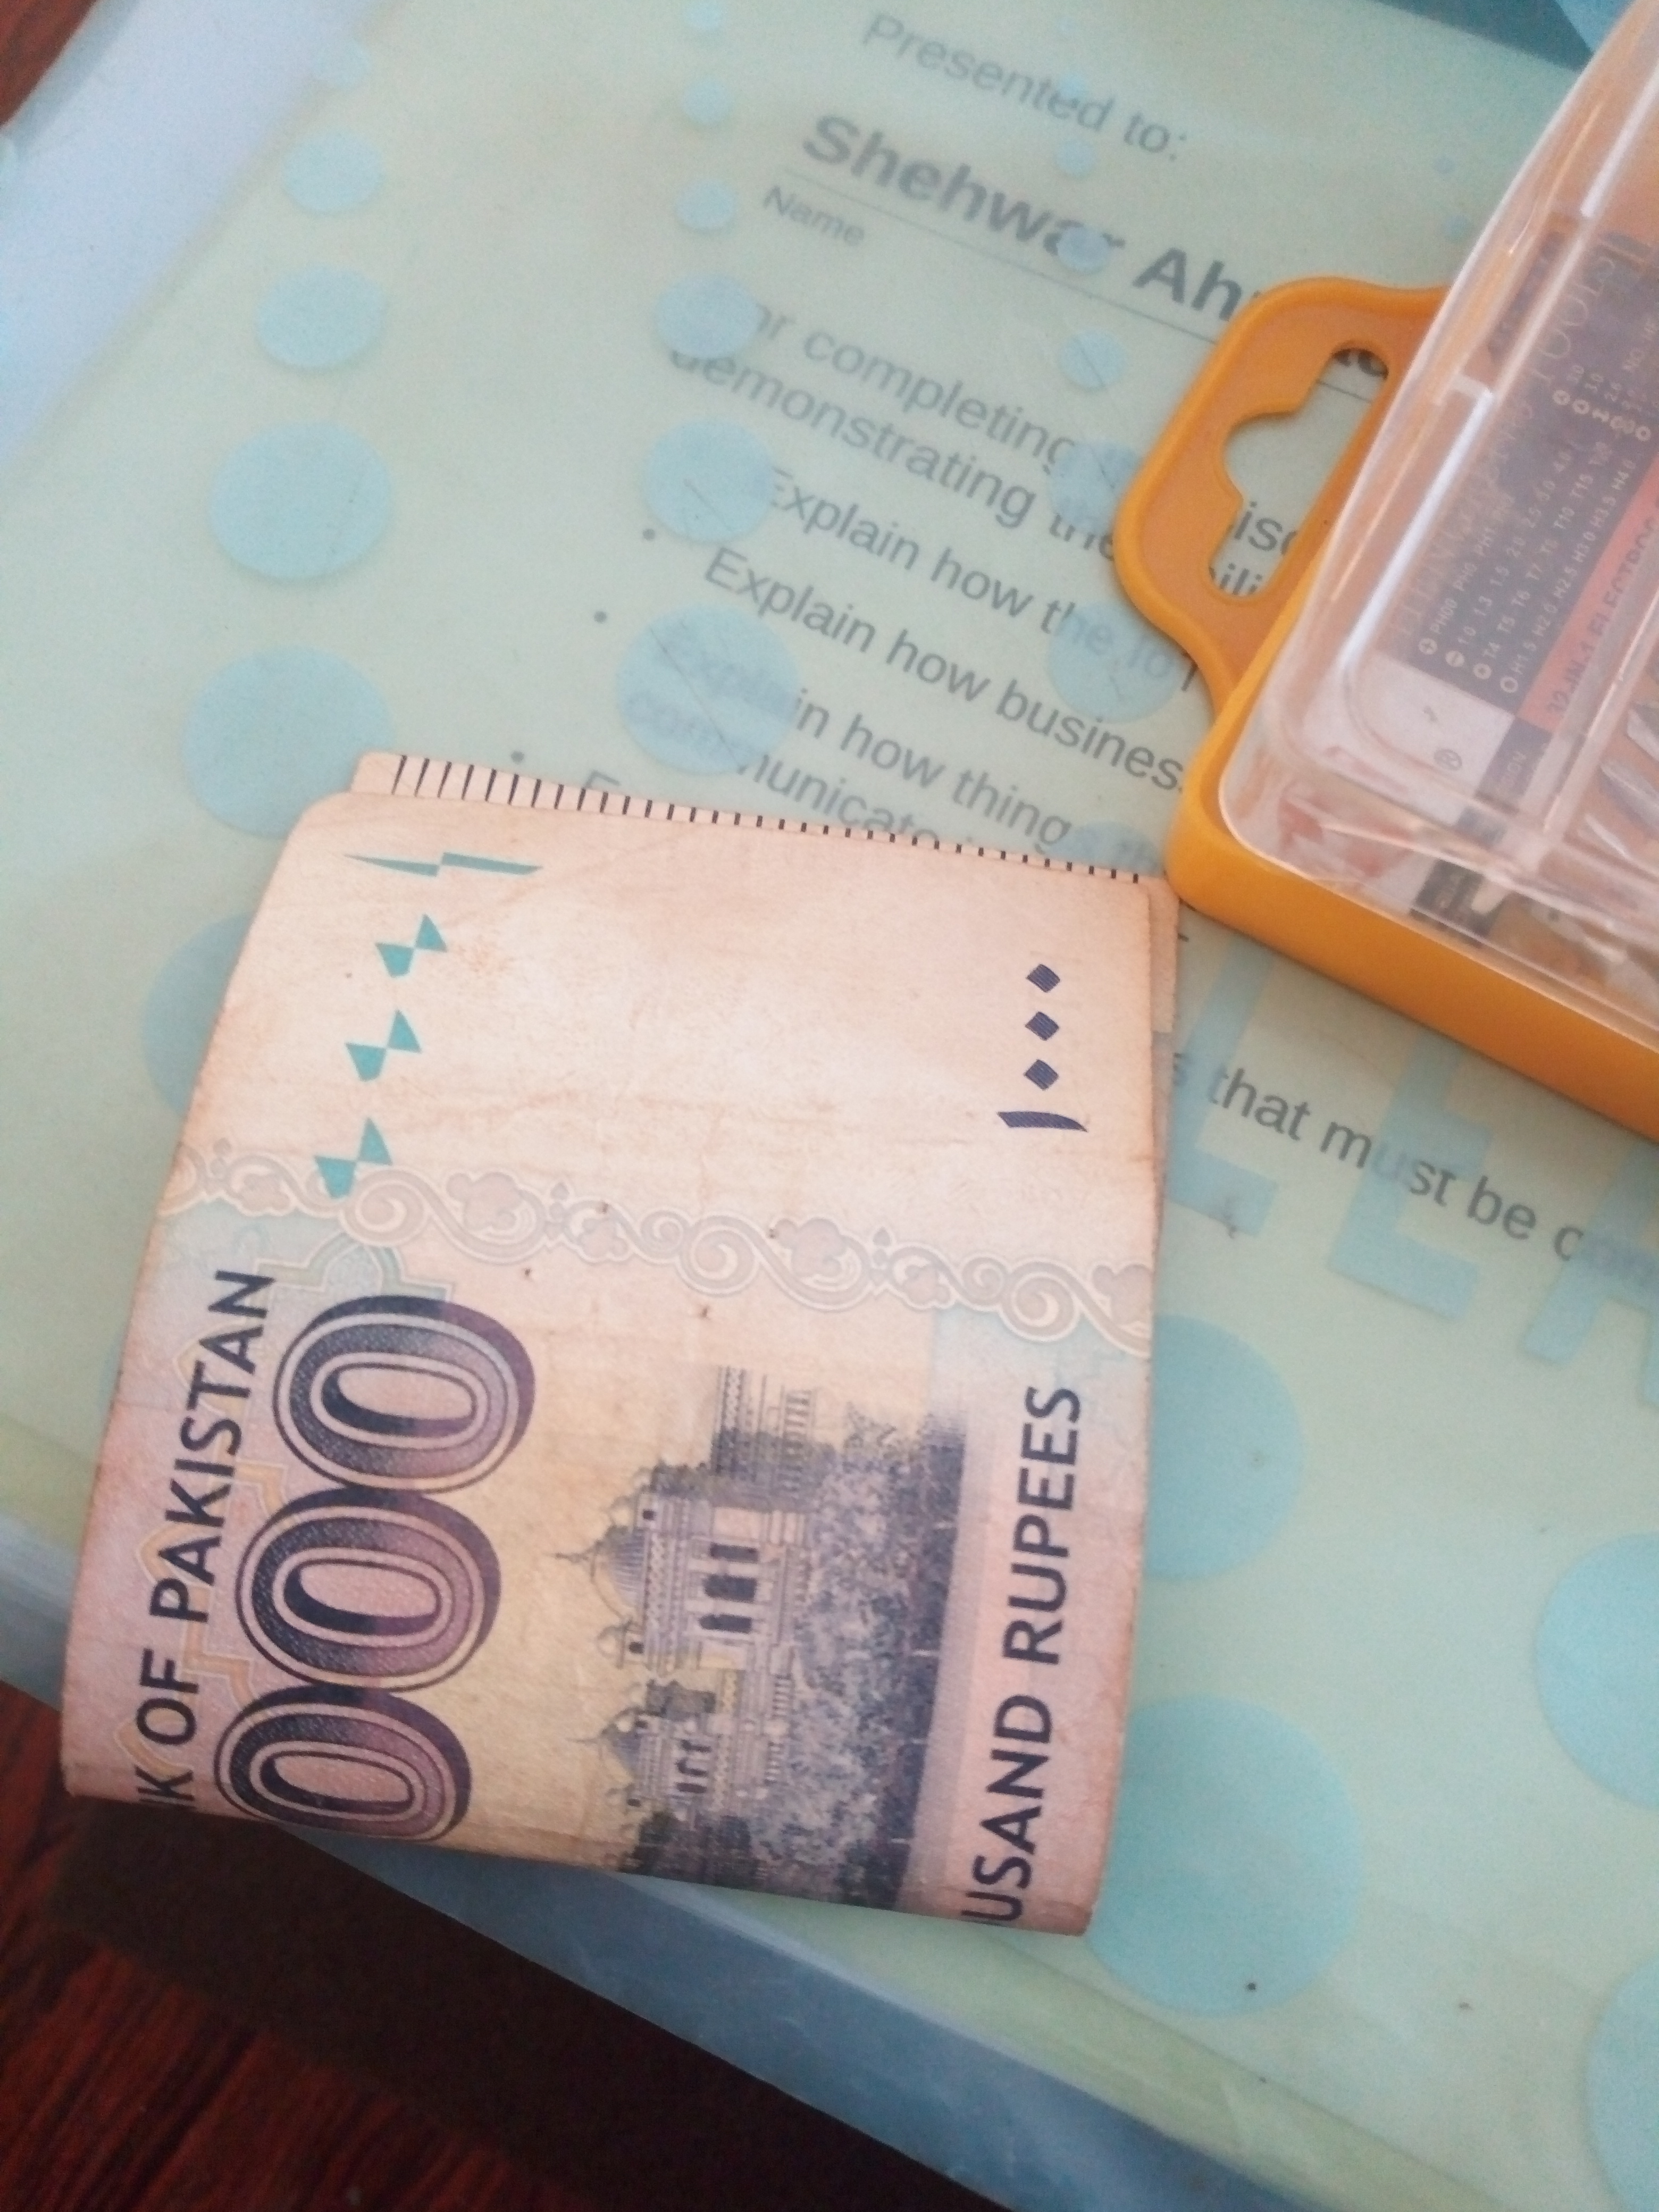1000 rupee: (54, 625, 1338, 2085)
